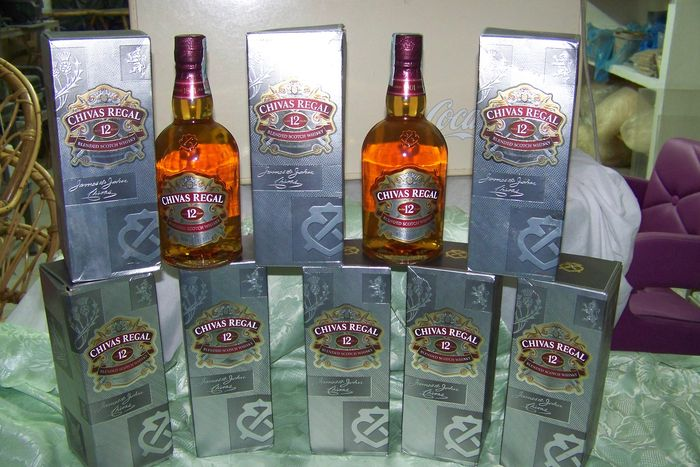Chivas Regal: (149, 29, 244, 274), (357, 29, 450, 270)
